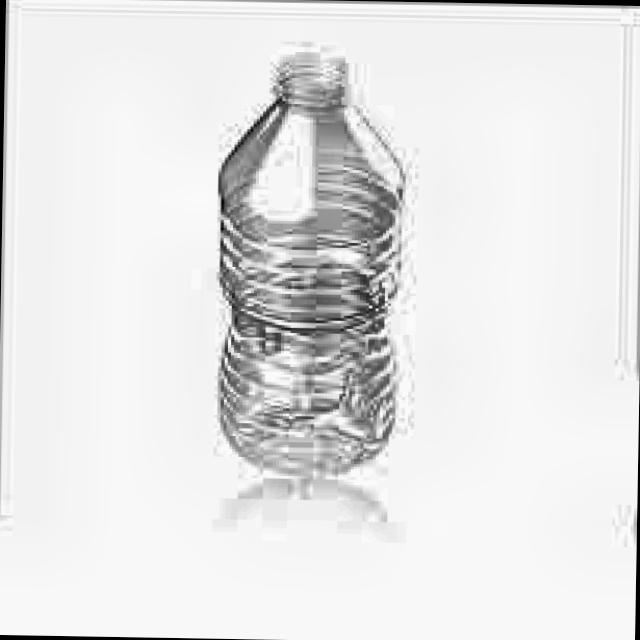plastic bottle: (218, 52, 403, 474)
